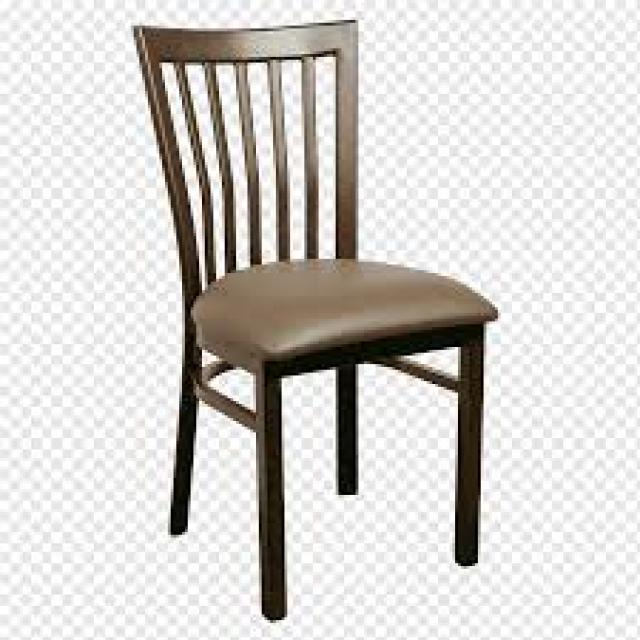chair: (129, 20, 499, 623)
